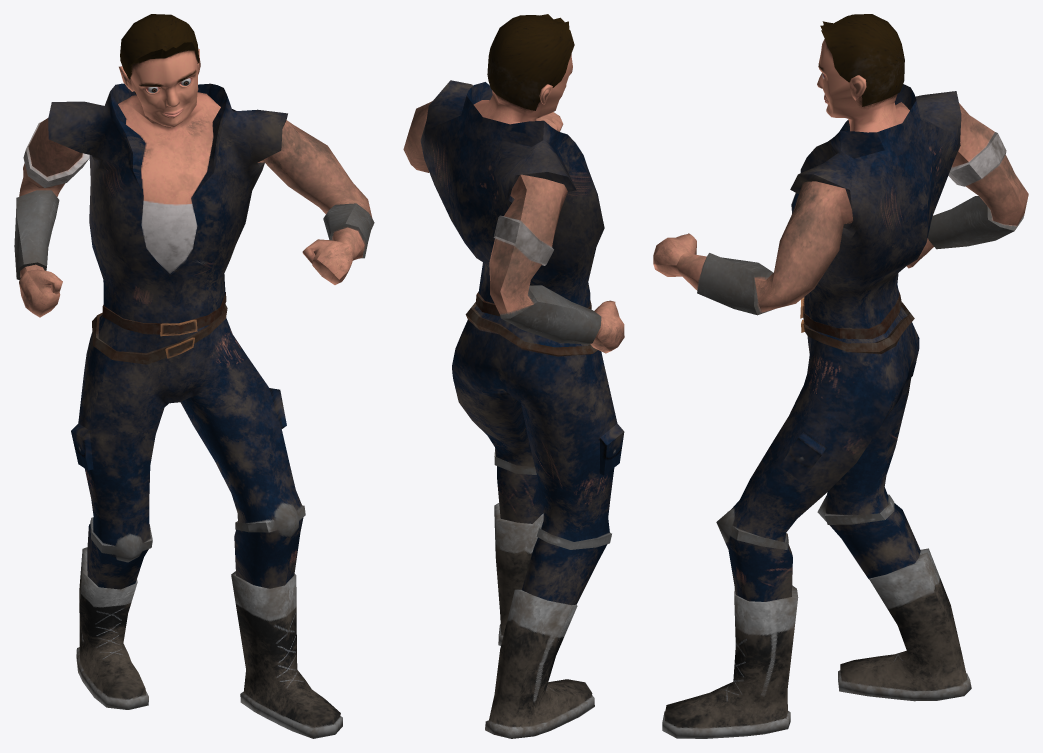
Rendered from Anim_ataque_d1_jugador.0017.obj.
The picture shows the model from 3 angles, left to right: view 1: azimuth 30°, elevation 25°; view 2: azimuth 150°, elevation 25°; view 3: azimuth 270°, elevation 25°; orthographic projection.
Parts seen in each view (by area): view 1: polySurface1; view 2: polySurface1; view 3: polySurface1.
Part boxes in pixels (<box>): polySurface1: <box>14,14,374,738</box>; polySurface1: <box>403,14,624,738</box>; polySurface1: <box>653,14,1028,738</box>.
Bounding box in the file's own units: 4 × 9.33 × 4.62.
